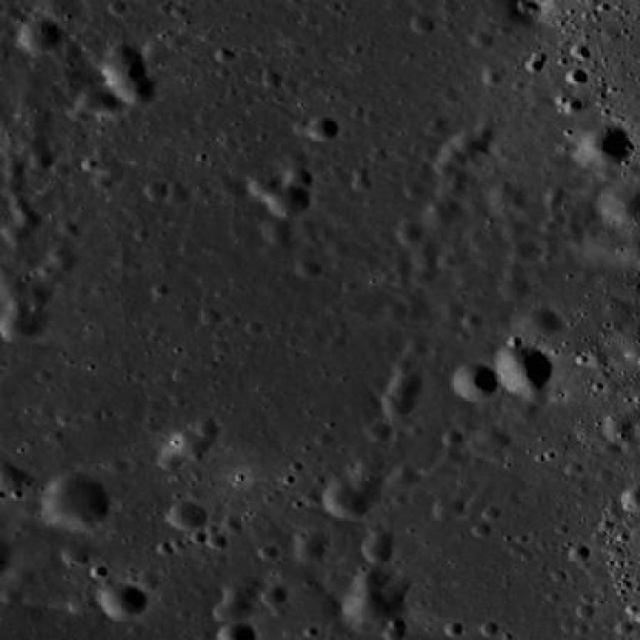crater: (7, 548, 85, 612), (36, 470, 112, 530), (342, 581, 406, 634), (496, 346, 554, 394), (579, 122, 635, 167), (576, 223, 632, 268), (324, 479, 374, 519), (99, 582, 148, 620), (452, 362, 500, 400), (0, 304, 45, 342), (101, 52, 147, 88), (112, 69, 157, 105), (18, 18, 62, 53), (520, 307, 563, 341), (270, 183, 312, 217), (78, 86, 118, 119), (484, 182, 524, 215), (169, 500, 208, 531), (172, 428, 211, 458), (293, 532, 330, 562), (214, 596, 251, 626), (223, 574, 260, 604), (419, 198, 456, 227), (354, 565, 389, 593), (388, 372, 424, 399), (603, 414, 637, 442), (363, 534, 397, 562), (382, 391, 416, 418), (496, 274, 530, 300), (350, 466, 384, 492), (249, 171, 282, 197), (441, 140, 474, 166), (454, 128, 486, 154), (434, 174, 466, 200), (307, 114, 338, 140), (0, 465, 28, 493), (388, 465, 419, 490), (434, 498, 466, 522), (46, 245, 76, 270), (409, 240, 438, 265), (507, 236, 536, 261), (162, 182, 190, 205), (3, 222, 31, 245), (263, 220, 292, 242), (407, 262, 436, 284), (143, 40, 171, 62), (157, 449, 185, 471), (396, 223, 422, 246), (460, 193, 486, 216), (107, 42, 133, 64), (0, 278, 26, 300), (440, 302, 466, 324), (483, 428, 509, 450), (30, 151, 56, 171), (522, 386, 548, 406), (367, 423, 393, 443), (296, 258, 321, 278), (499, 220, 524, 240), (384, 300, 408, 320), (262, 584, 286, 604), (194, 416, 218, 436), (402, 338, 426, 357), (410, 15, 433, 34), (324, 239, 347, 258), (64, 545, 87, 564), (145, 182, 167, 201), (18, 209, 40, 228), (28, 286, 50, 305), (288, 168, 310, 186), (474, 122, 496, 140), (436, 158, 458, 176), (566, 68, 588, 86), (70, 104, 92, 121), (58, 219, 80, 236), (585, 349, 607, 366), (443, 429, 465, 446), (2, 586, 24, 603), (207, 532, 227, 550), (434, 252, 456, 268), (8, 300, 28, 316), (472, 32, 492, 48), (63, 42, 83, 58), (569, 544, 589, 560), (261, 544, 281, 560), (222, 516, 242, 532), (517, 0, 537, 15), (4, 162, 24, 176), (384, 626, 404, 640)
